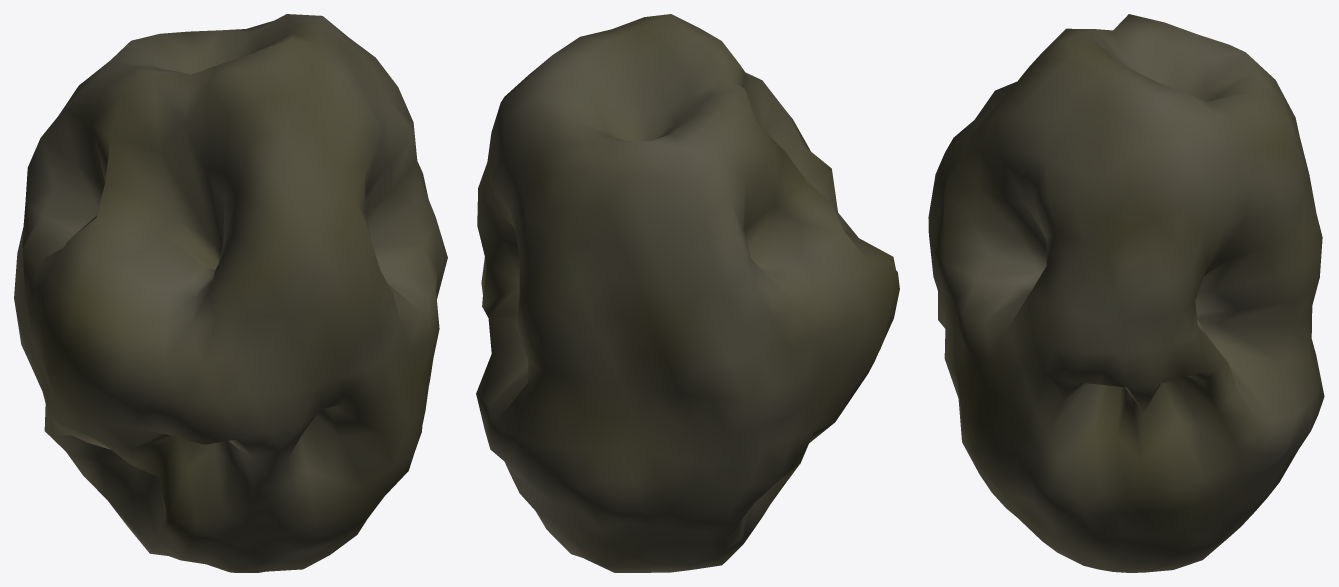
File: asteroid_med_21.glb
3 views of the same model, side by side, from view 1: azimuth 30°, elevation 25°; view 2: azimuth 150°, elevation 25°; view 3: azimuth 270°, elevation 25° (orthographic). The views are drawn at different scales.
Parts seen in each view (by area): view 1: asteroid_med_21; view 2: asteroid_med_21; view 3: asteroid_med_21.
Boxes of the visible parts, x1,y1,x2,y2 form: asteroid_med_21: [14, 14, 447, 572]; asteroid_med_21: [476, 14, 899, 572]; asteroid_med_21: [928, 14, 1324, 572].
Bounding box in the file's own units: 1.46 × 1.96 × 1.32.
